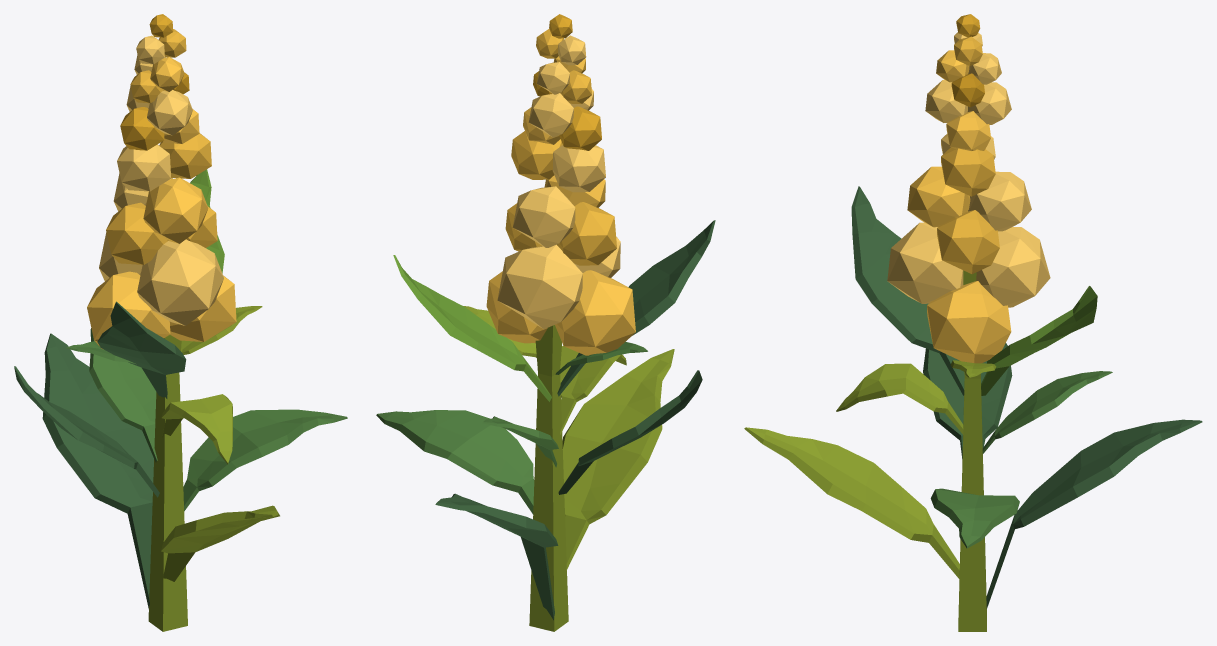
The model's file is EA_M_Env_Flower_02a_PRE.glb.
The picture shows the model from 3 angles, left to right: view 1: azimuth 30°, elevation 25°; view 2: azimuth 150°, elevation 25°; view 3: azimuth 270°, elevation 25°; orthographic projection.
Visible parts, largest first — view 1: EA_M_Env_Flower_02a; view 2: EA_M_Env_Flower_02a; view 3: EA_M_Env_Flower_02a.
Part boxes in pixels (bbox=[...]): EA_M_Env_Flower_02a: bbox=[14, 14, 347, 631]; EA_M_Env_Flower_02a: bbox=[376, 14, 715, 631]; EA_M_Env_Flower_02a: bbox=[744, 14, 1202, 631].
Size of the model in its own units: 0.6841 by 1.21 by 0.8338.
Materials: 1 (1 with a texture image).
